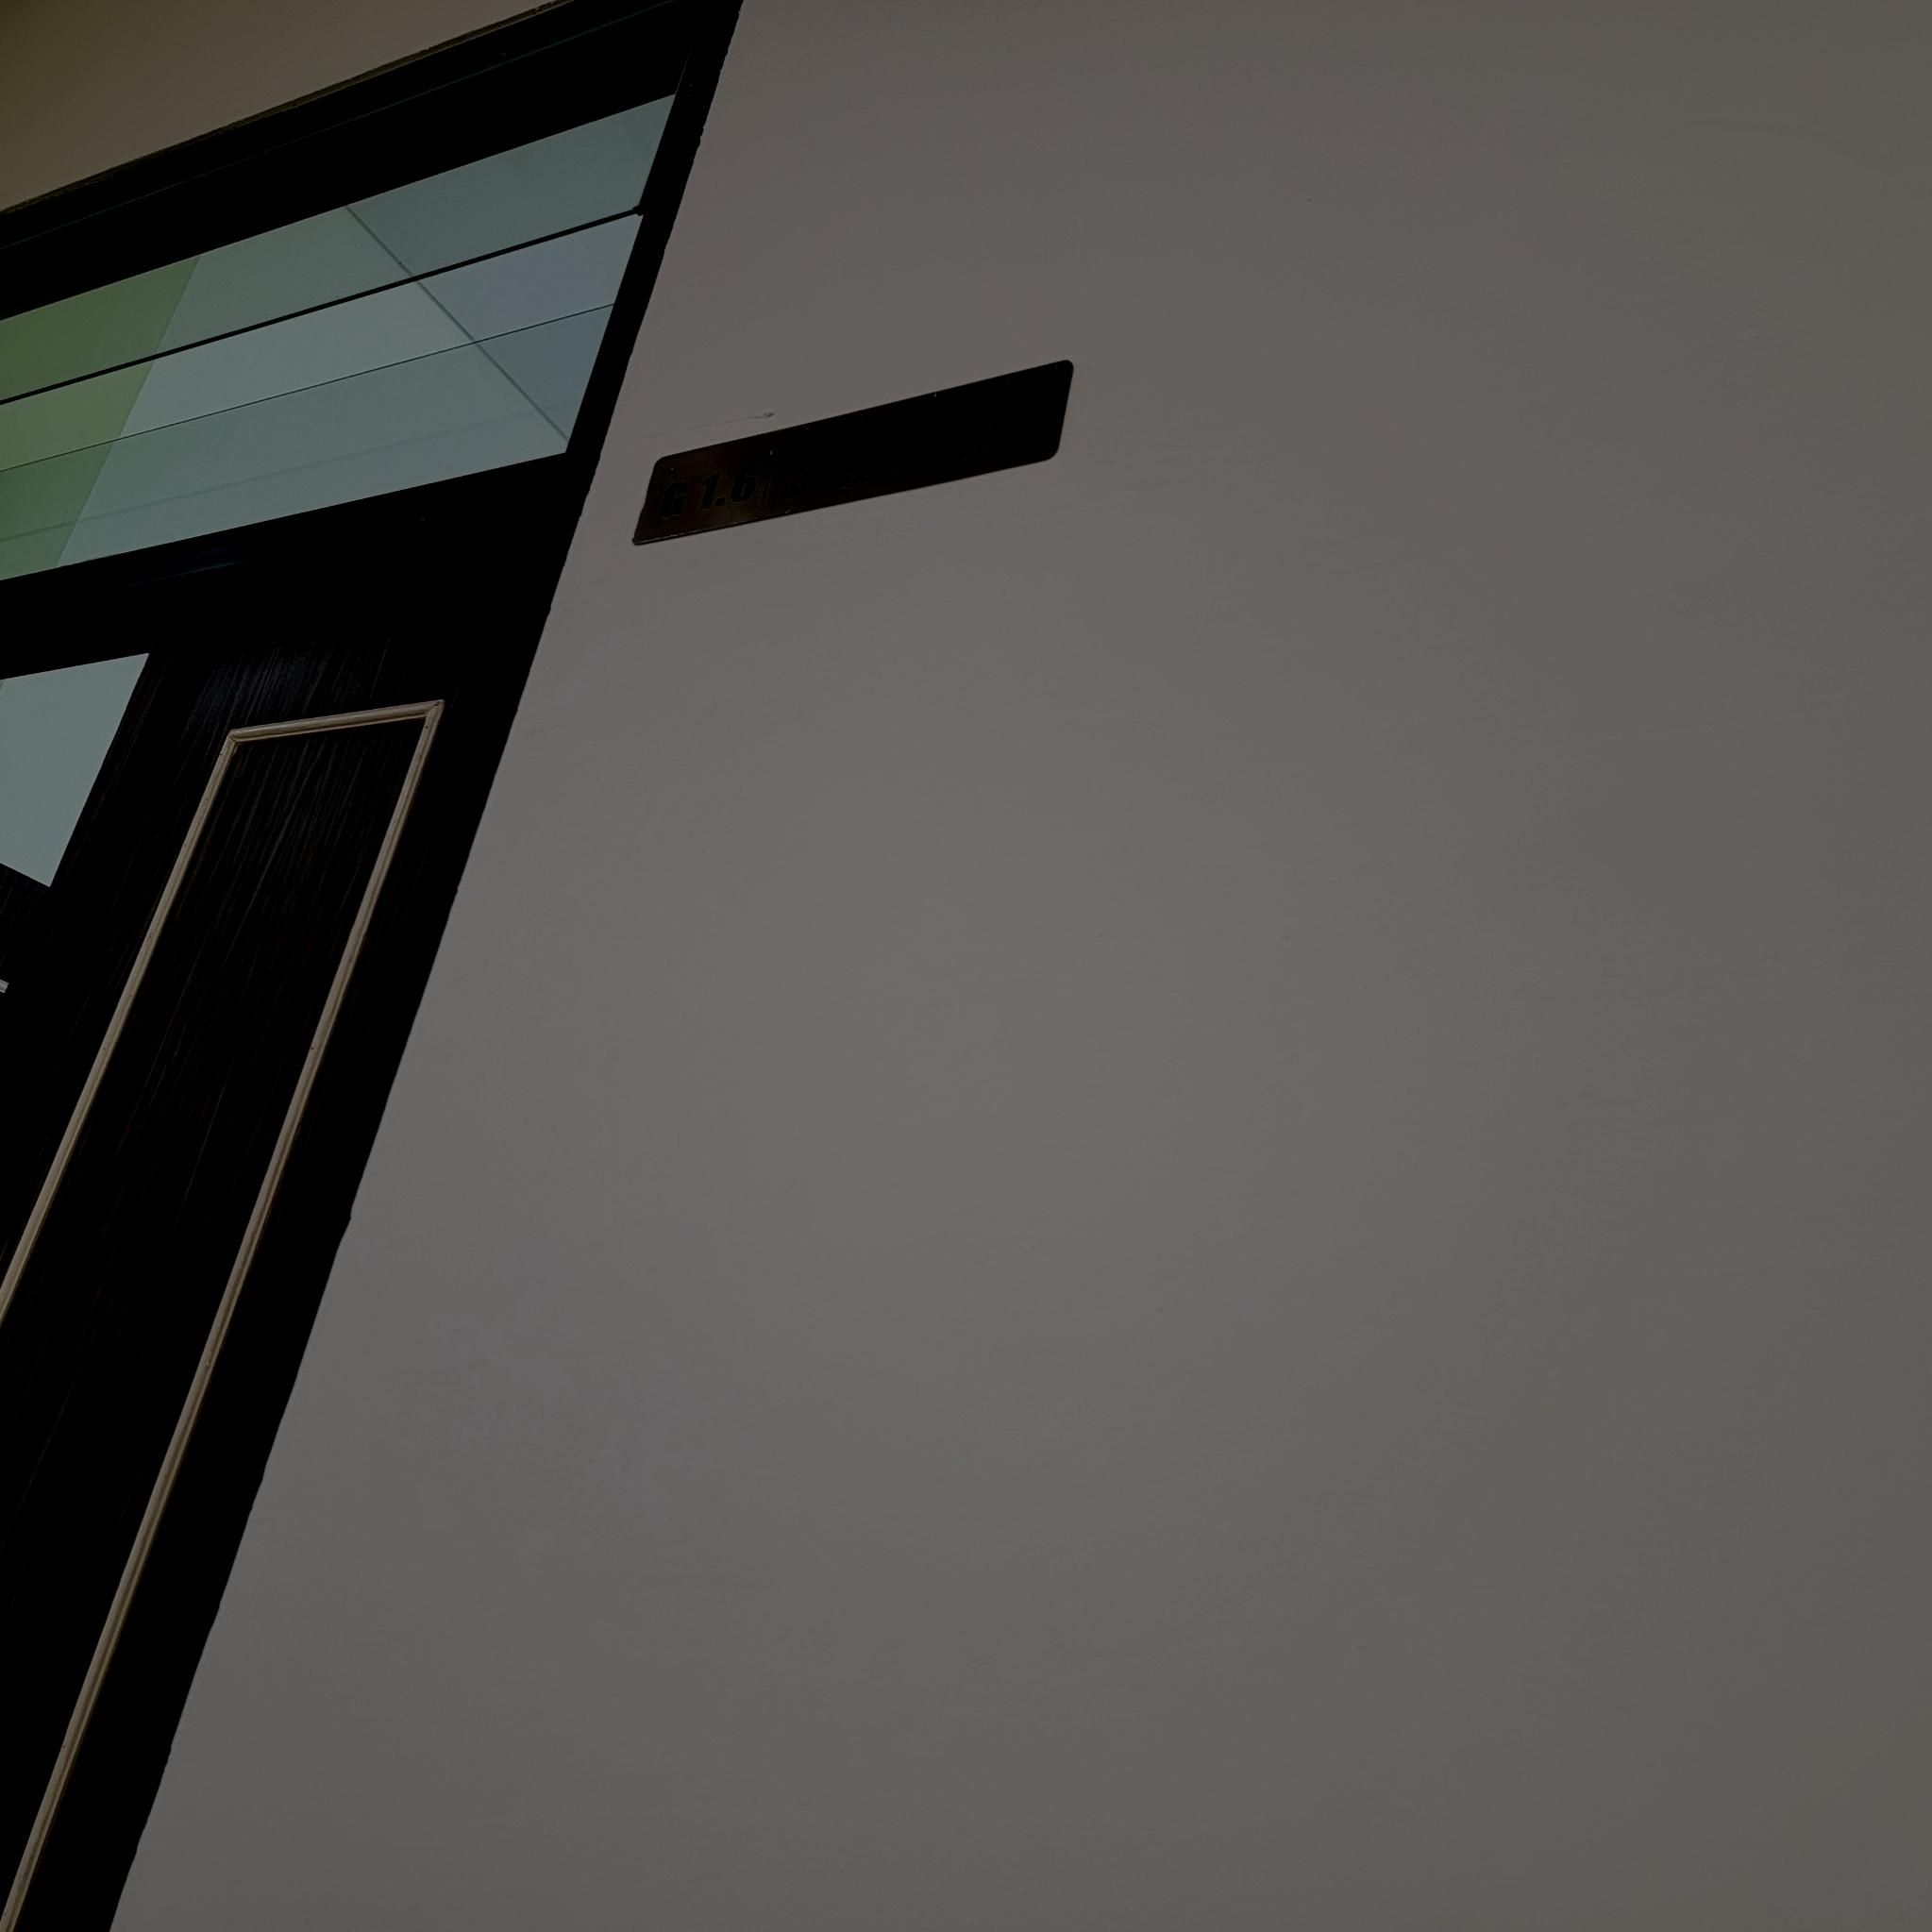plate: (630, 357, 1077, 547)
